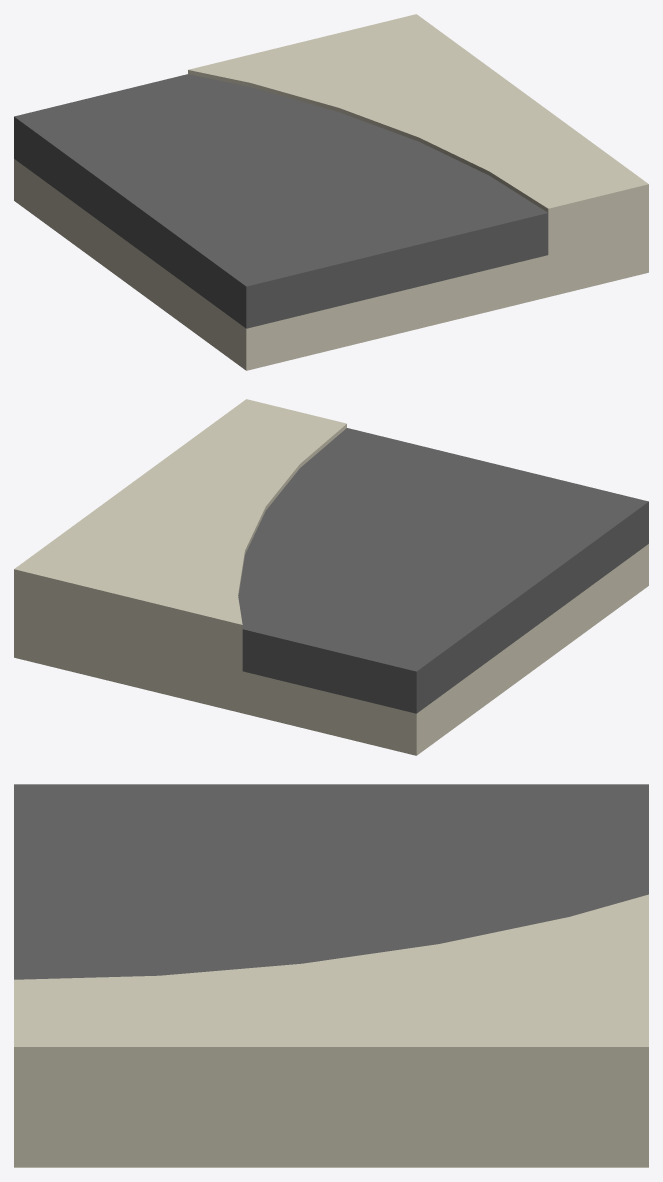
The model's file is tile220.dae.
3 renders of one model, top to bottom at view 1: azimuth 30°, elevation 25°; view 2: azimuth 150°, elevation 25°; view 3: azimuth 270°, elevation 25°, orthographic. The views are drawn at different scales.
Parts seen in each view (by area): view 1: tile220; view 2: tile220; view 3: tile220.
Boxes of the visible parts, box(x1,y1,x2,y2) form: tile220: box(14, 14, 648, 370); tile220: box(14, 399, 648, 755); tile220: box(14, 784, 648, 1167).
Size of the model in its own units: 1 by 0.21 by 1.
